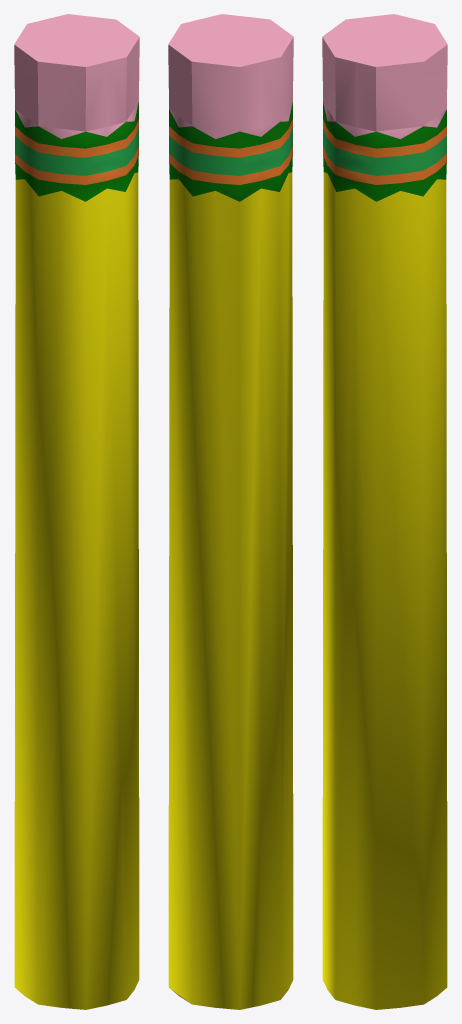
The model's file is UnshavedPensil.fbx.
The picture shows the model from 3 angles, left to right: view 1: azimuth 30°, elevation 25°; view 2: azimuth 210°, elevation 25°; view 3: azimuth 330°, elevation 25°; orthographic projection.
Visible parts, largest first — view 1: Pencil Small; view 2: Pencil Small; view 3: Pencil Small.
Part boxes in pixels (x1,y1,x2,y2): Pencil Small: [14, 14, 139, 1009]; Pencil Small: [168, 14, 293, 1009]; Pencil Small: [322, 14, 447, 1009].
Size of the model in its own units: 40 by 40 by 345.
Materials: 1 (1 with a texture image).
